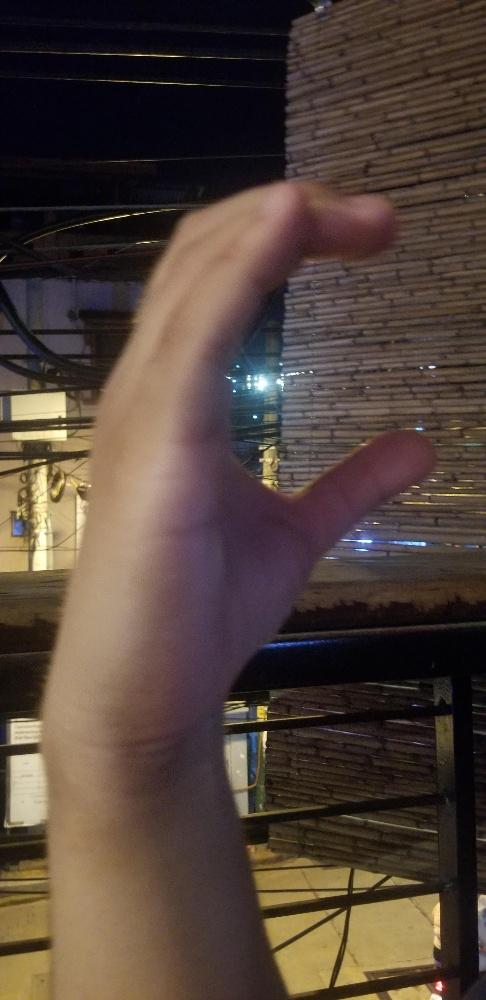c: (54, 183, 441, 688)
